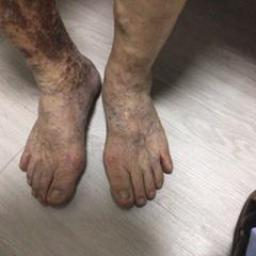Dorsal View -Both Feet-: (10, 48, 184, 218)
